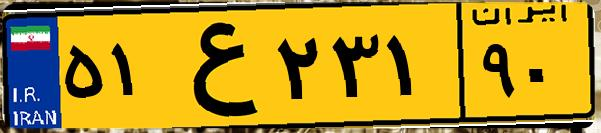0: (525, 38, 570, 115)
1: (385, 28, 445, 110), (110, 28, 158, 98)
2: (270, 28, 330, 110)
3: (330, 28, 385, 110)
5: (57, 26, 110, 100)
9: (475, 38, 525, 113)
ع: (158, 12, 270, 120)
